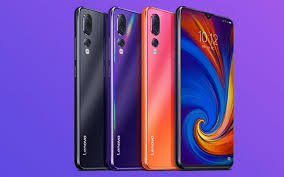lenovo: (173, 1, 238, 172)
